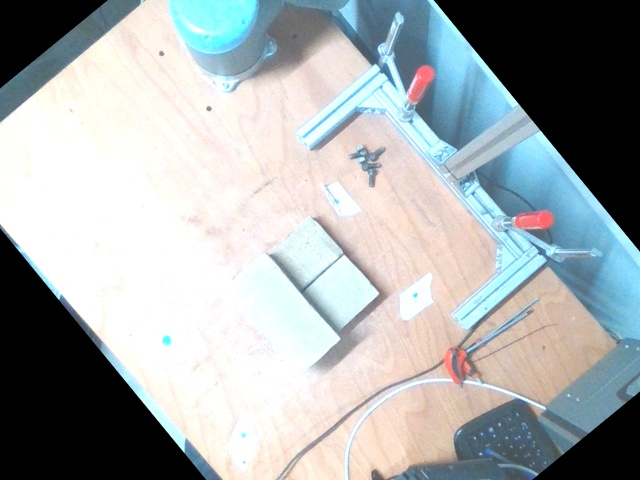brick: (222, 251, 340, 375)
